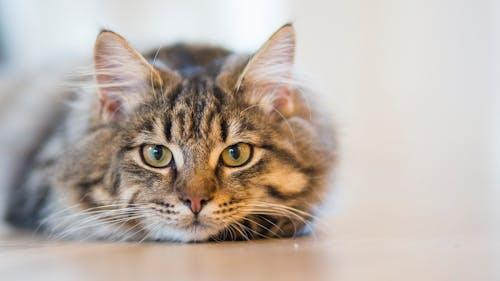kedo: (1, 23, 335, 240)
